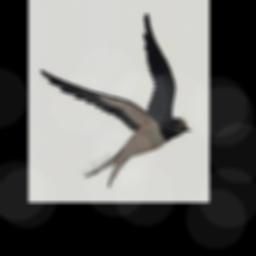Swallow: (40, 13, 191, 186)
